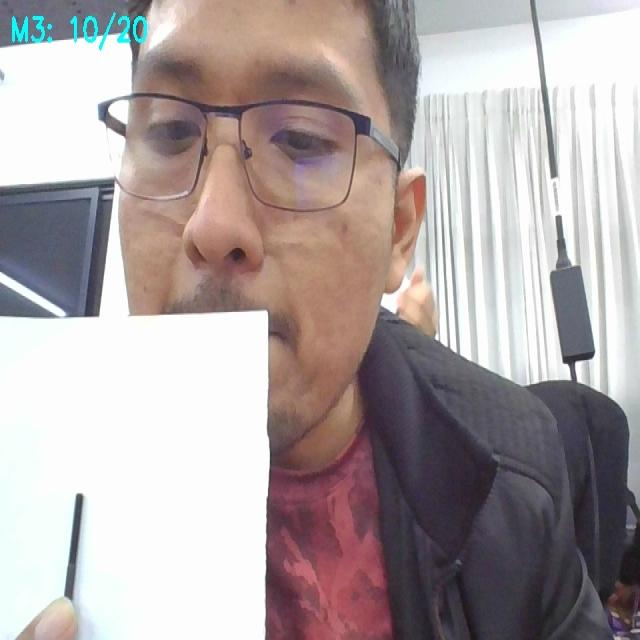vastago: (64, 493, 83, 599)
